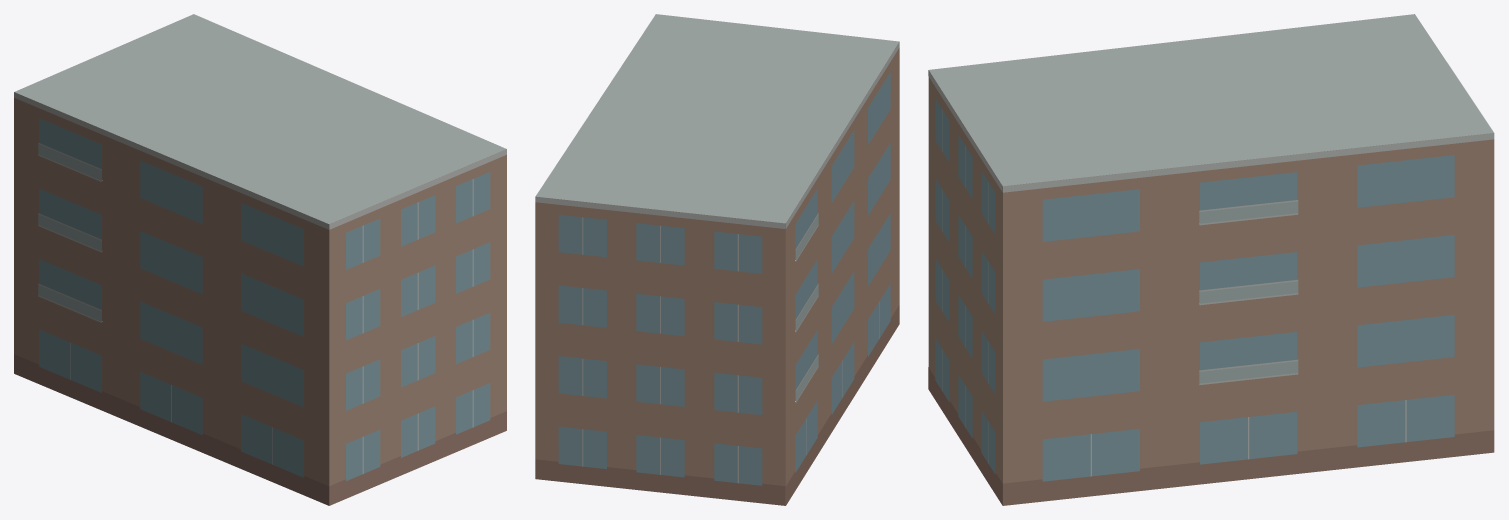
Rendered from survey-upis-32720250.glb.
3 views of the same model, side by side, from view 1: azimuth 30°, elevation 25°; view 2: azimuth 150°, elevation 25°; view 3: azimuth 270°, elevation 25° (orthographic). The views are drawn at different scales.
Parts seen in each view (by area): view 1: survey-upis-32720250.tmp; view 2: survey-upis-32720250.tmp; view 3: survey-upis-32720250.tmp.
Part boxes in pixels (<box>): survey-upis-32720250.tmp: <box>14,14,506,505</box>; survey-upis-32720250.tmp: <box>535,14,899,505</box>; survey-upis-32720250.tmp: <box>928,14,1494,505</box>.
Bounding box in the file's own units: 14.12 × 12.2 × 19.58.
